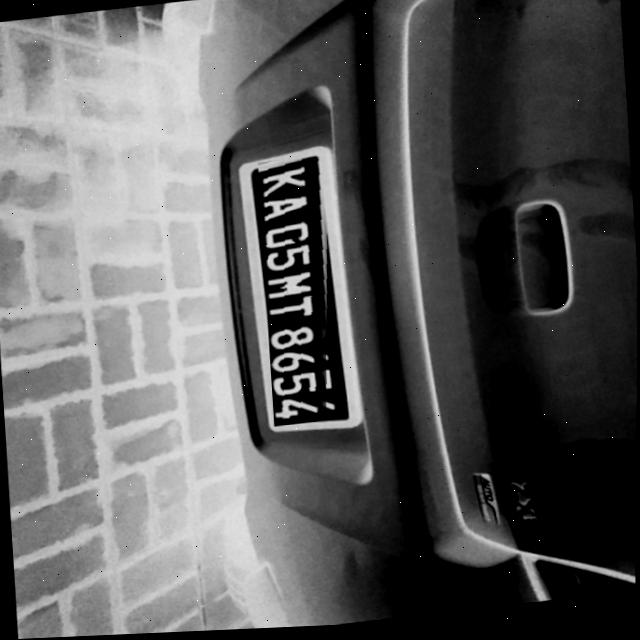Non_registered: (254, 153, 345, 430)
